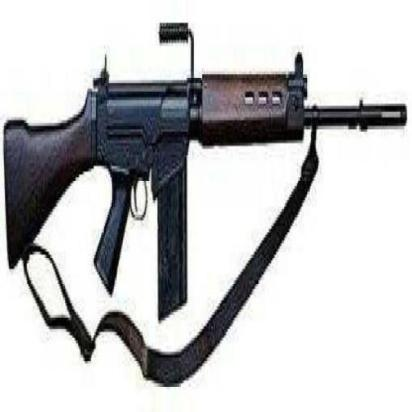Gun: (3, 56, 407, 269)
